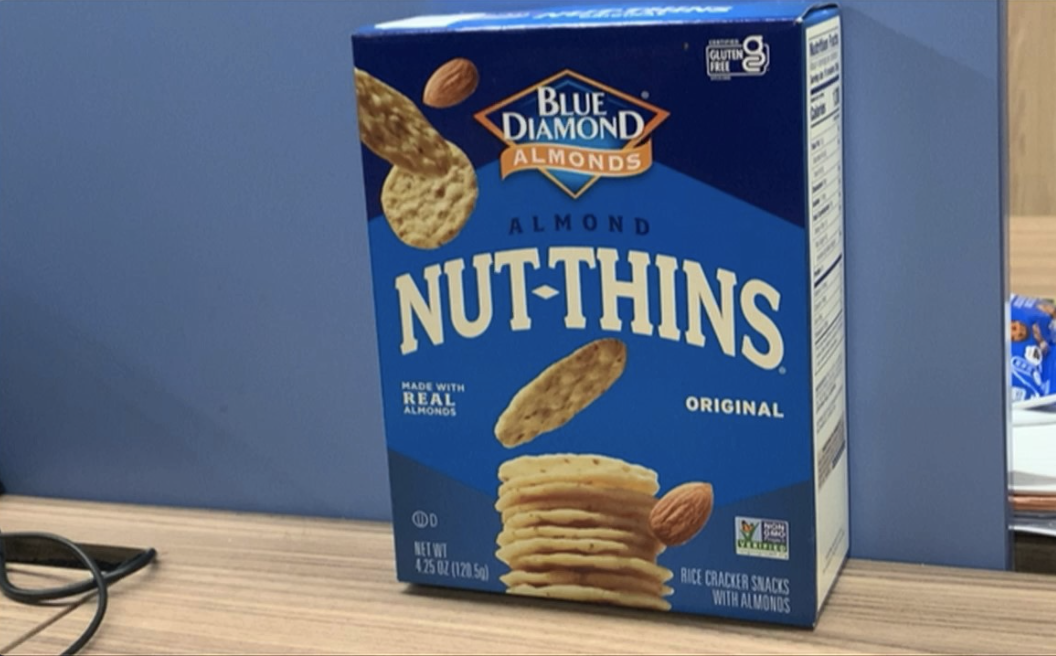crackers_150g: (376, 47, 794, 596)
